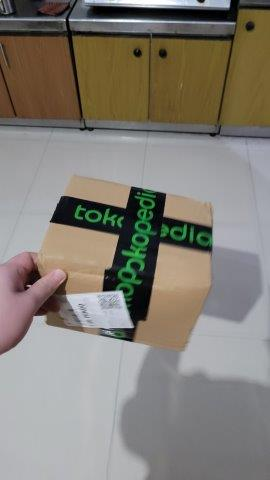kardus: (36, 175, 216, 350)
